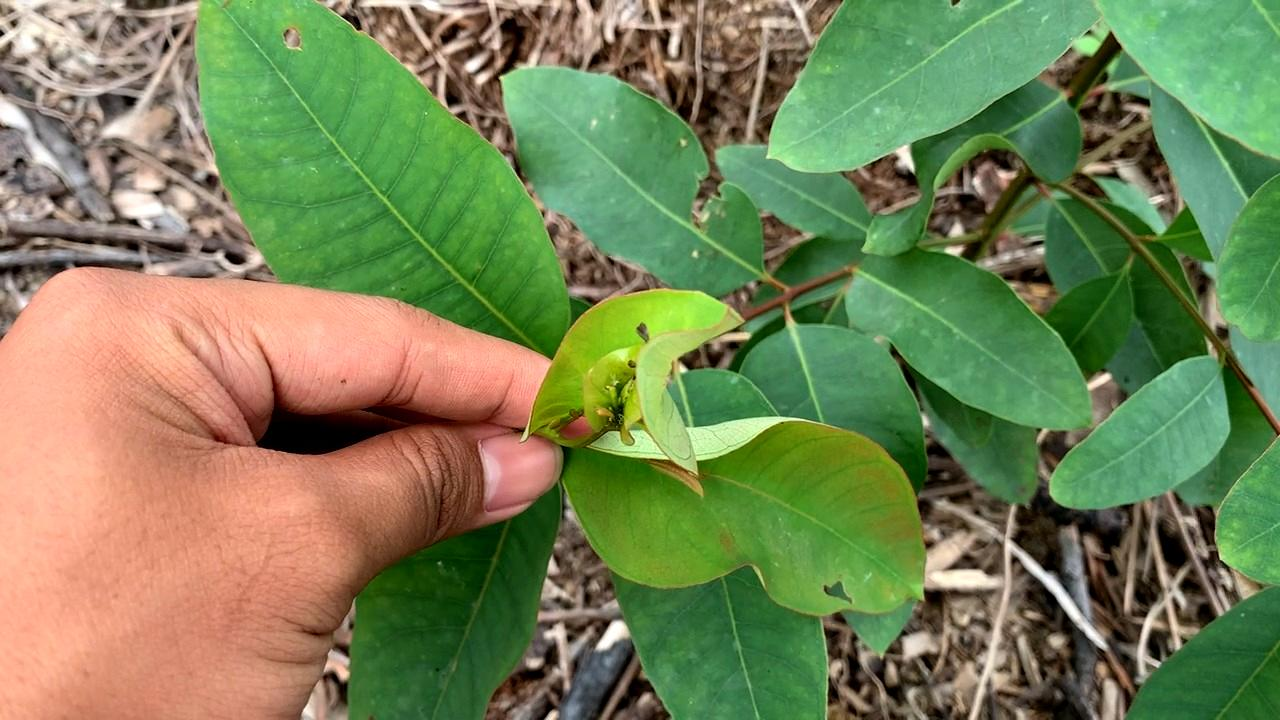Leaf Roller - Leaf: (542, 289, 743, 481)
